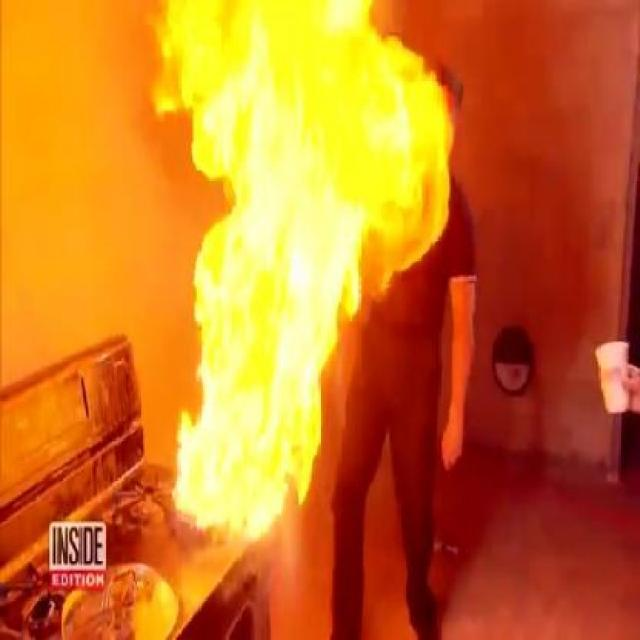fire: (166, 14, 412, 523)
